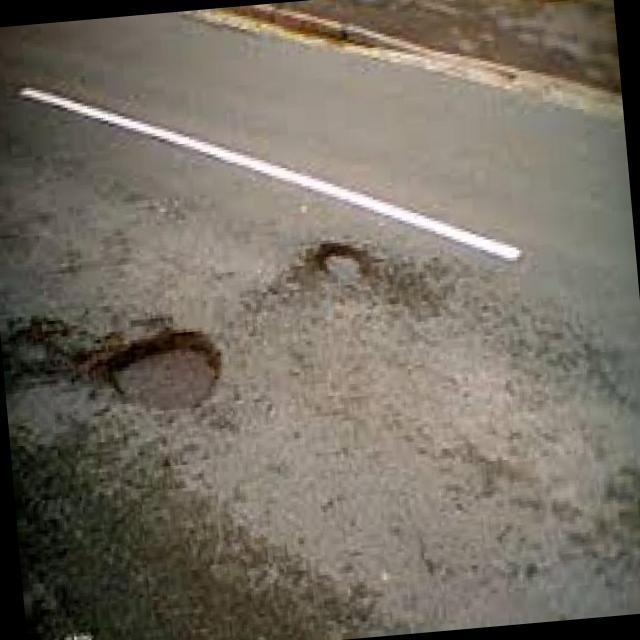Pothole: (2, 335, 220, 413), (315, 243, 372, 287)
